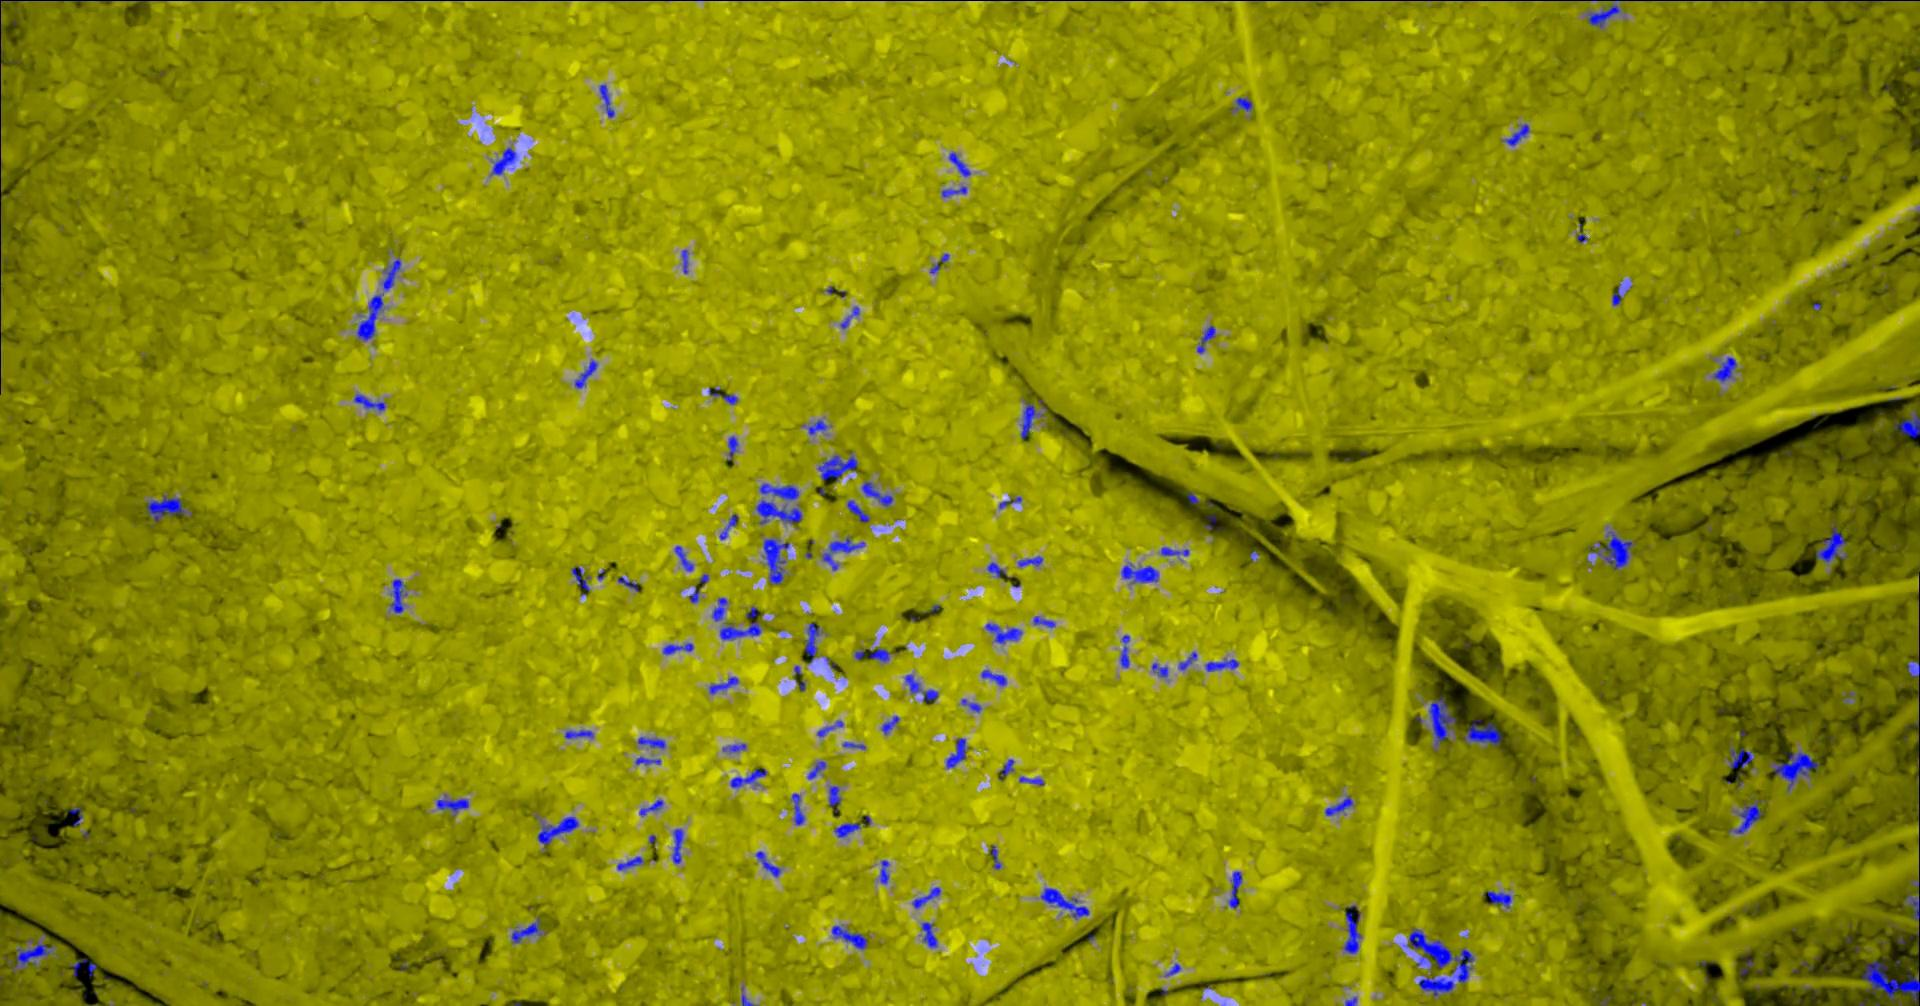ant: (1862, 960, 1919, 1001), (1587, 530, 1634, 569), (1773, 752, 1818, 791), (1040, 887, 1088, 918), (8, 937, 53, 970), (822, 536, 863, 570), (1429, 695, 1457, 746), (1815, 521, 1848, 561), (719, 606, 759, 639), (356, 293, 383, 340), (537, 815, 578, 847), (762, 539, 789, 584), (1727, 799, 1763, 833), (817, 451, 856, 481), (756, 499, 801, 523), (145, 494, 184, 521), (1463, 719, 1501, 746), (830, 925, 867, 949), (1343, 904, 1361, 953), (1587, 0, 1619, 27), (1020, 401, 1043, 438), (510, 917, 542, 942), (1120, 563, 1158, 583), (834, 815, 870, 837), (861, 481, 891, 506), (985, 622, 1021, 643), (730, 767, 766, 788), (490, 147, 516, 175), (1893, 410, 1919, 438), (1727, 747, 1752, 774), (381, 257, 401, 290), (945, 737, 965, 768), (756, 850, 780, 876), (574, 359, 597, 387), (759, 483, 797, 499), (912, 887, 940, 908), (804, 622, 819, 662), (436, 794, 469, 812), (1712, 357, 1736, 381), (353, 392, 383, 412), (1906, 653, 1919, 699), (1324, 795, 1352, 815), (1905, 879, 1919, 920), (390, 578, 406, 612), (1503, 123, 1529, 145), (1196, 325, 1215, 353), (846, 499, 869, 522), (949, 152, 970, 177), (709, 676, 738, 694), (674, 545, 693, 572), (599, 84, 615, 117), (69, 958, 97, 976), (1228, 871, 1241, 908), (709, 387, 737, 404), (790, 793, 804, 826), (719, 513, 737, 539), (921, 921, 937, 948), (1204, 658, 1238, 671), (571, 567, 589, 591), (1486, 890, 1511, 907), (839, 306, 858, 328), (817, 720, 843, 735), (662, 641, 693, 654), (711, 597, 728, 621), (639, 799, 663, 815), (672, 828, 683, 862), (930, 253, 949, 273), (980, 669, 1006, 685), (828, 785, 841, 815), (616, 856, 643, 870), (987, 561, 1011, 577), (637, 735, 665, 748), (881, 715, 899, 734), (808, 760, 825, 779), (1119, 634, 1129, 667), (617, 575, 639, 591), (1178, 652, 1196, 669), (1230, 97, 1252, 111), (941, 185, 966, 197), (808, 419, 827, 434), (998, 495, 1021, 508), (904, 674, 919, 694), (961, 699, 982, 713), (999, 760, 1013, 779), (69, 807, 83, 826), (564, 729, 593, 738), (726, 434, 737, 460), (1017, 556, 1043, 567), (869, 648, 889, 661), (1150, 662, 1167, 677), (1032, 616, 1054, 627), (1018, 776, 1043, 785), (990, 845, 999, 869), (1161, 547, 1189, 555), (922, 688, 937, 702), (1611, 285, 1622, 305), (879, 860, 888, 883), (635, 756, 660, 763), (681, 249, 688, 273), (723, 743, 745, 751), (688, 587, 698, 602)
